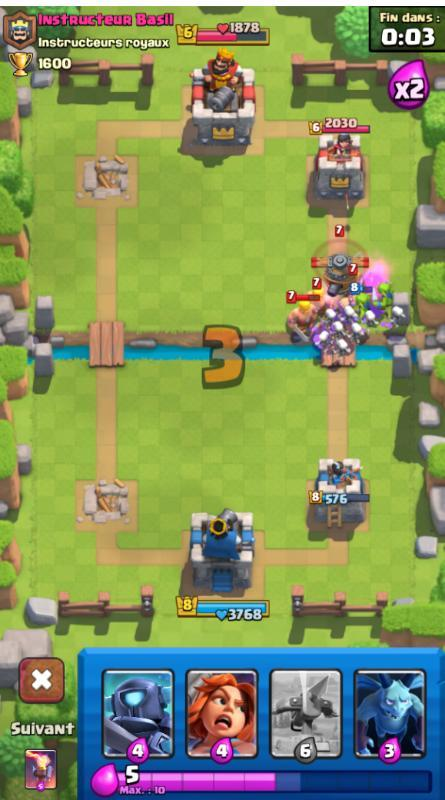enemy_barbarians: (284, 292, 321, 343)
enemy_flying_machine: (308, 229, 374, 301)
player_goblins: (373, 281, 399, 311)
player_skeletons: (347, 322, 366, 347), (388, 305, 407, 330), (314, 328, 333, 351), (361, 308, 378, 332), (339, 305, 358, 326), (328, 319, 346, 338), (336, 338, 351, 356), (321, 307, 339, 322)
